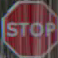Stop: (2, 6, 53, 47)
